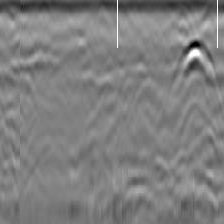Utility: (175, 37, 219, 87)
